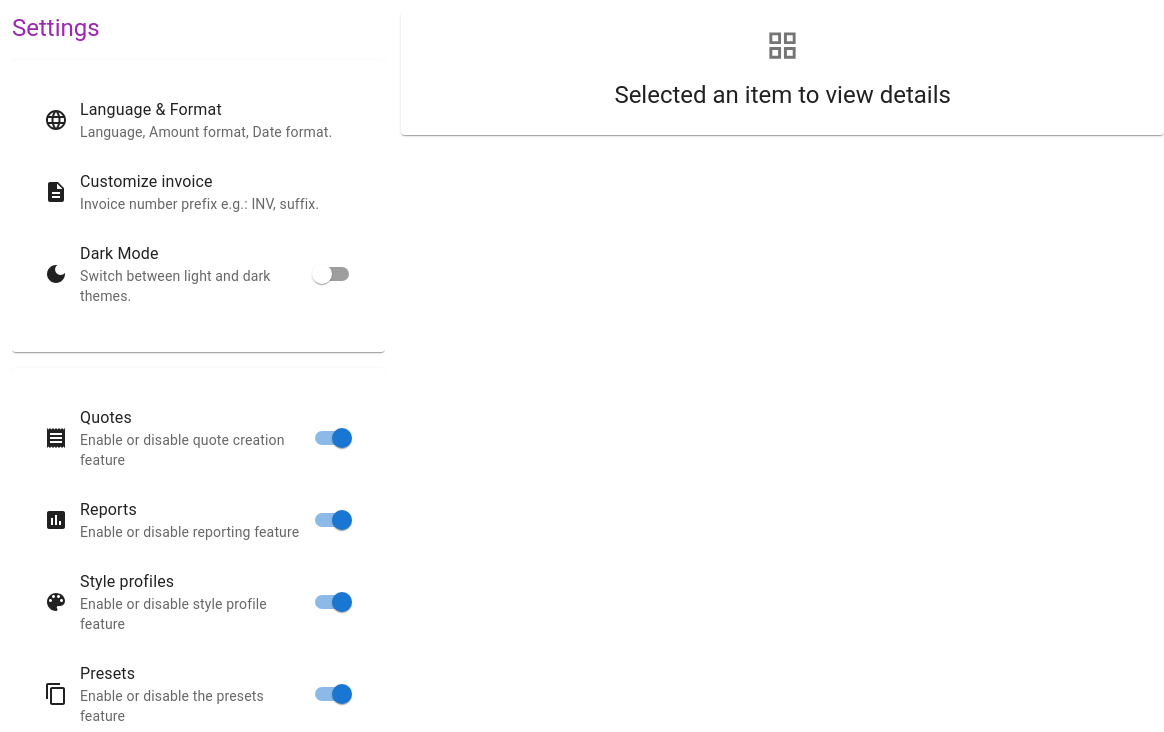
Test: SettingsPage › shows the language & format content when that menu item is selected
Click the text "Language & Format": (151,110) [80,100,222,119]
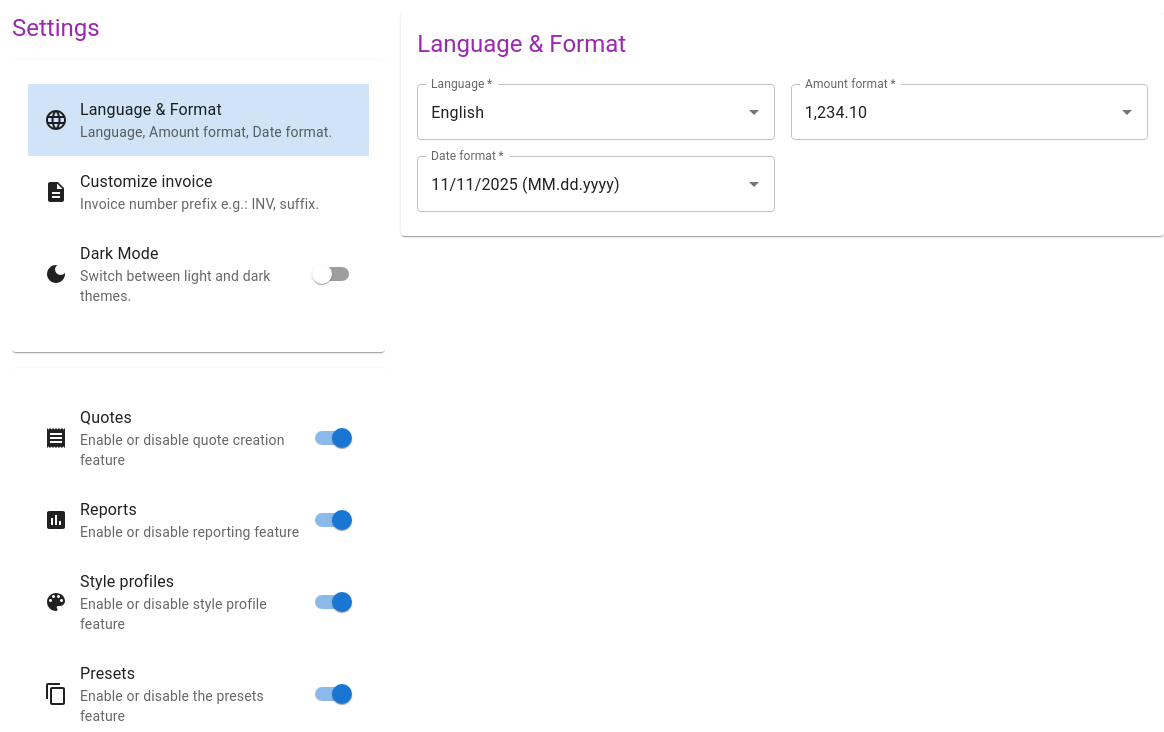
Now the heading "Selected an item to view details" is gone
